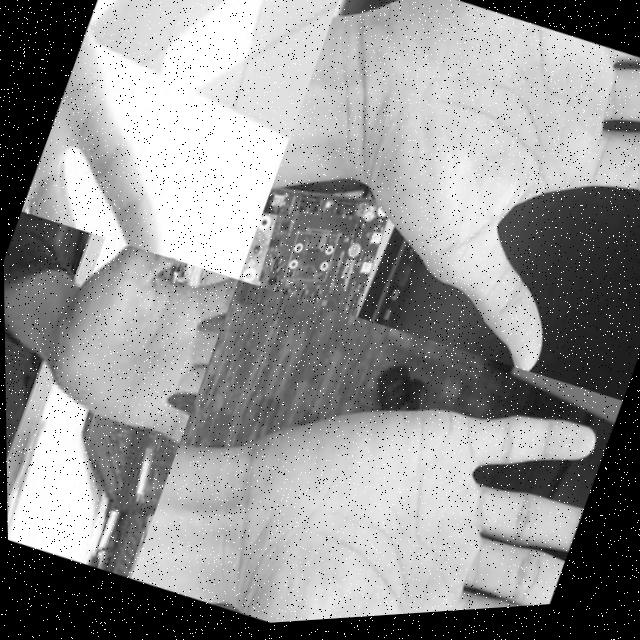hand: (285, 0, 640, 426), (178, 314, 611, 631), (19, 0, 265, 265), (28, 227, 240, 459)
